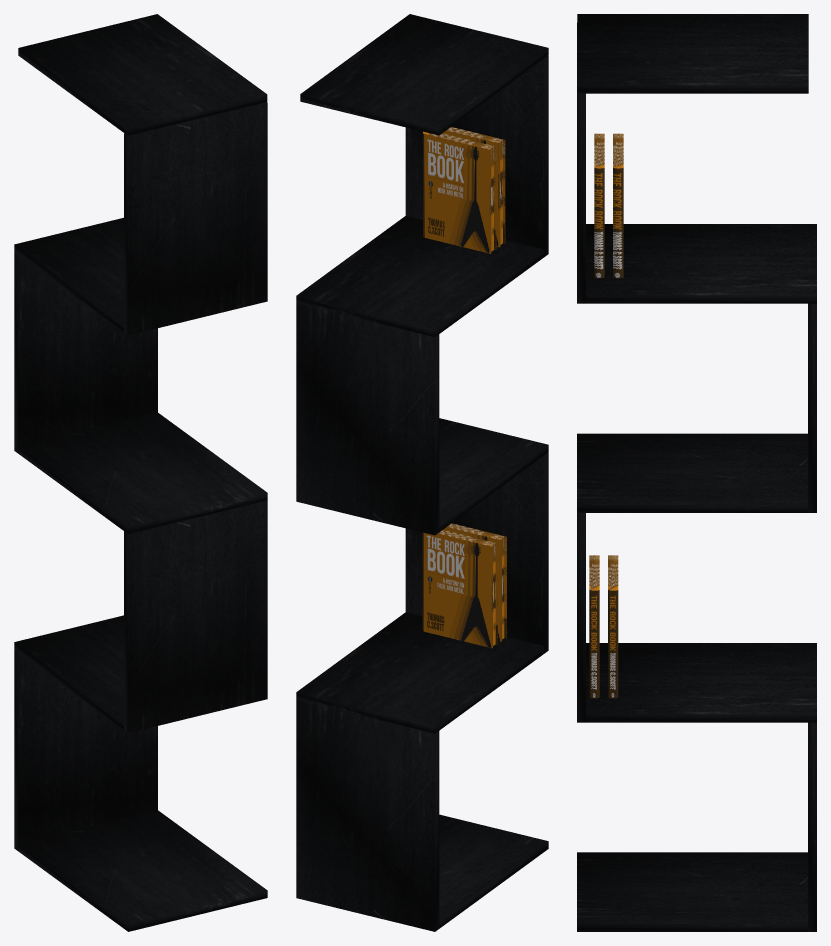
The model's file is estante.obj.
The picture shows the model from 3 angles, left to right: view 1: azimuth 30°, elevation 25°; view 2: azimuth 150°, elevation 25°; view 3: azimuth 270°, elevation 25°; orthographic projection. The views are drawn at different scales.
Visible parts, largest first — view 1: Cube.001, Cube.005, Cube.003, Cube.007, Cube.004, Cube.008, Cube.025_Cube.034, Cube.002, Cube.006; view 2: Cube.003, Cube.007, Cube.025_Cube.034, Cube.006, Cube.002, Cube.001, Cube.005, Cube.010, Cube.019_Cube.024, Cube.008, Cube.004, Cube.009_Cube.011 (+1 smaller); view 3: Cube.025_Cube.034, Cube.004, Cube.008, Cube.002, Cube.006, Cube.001, Cube.003, Cube.005, Cube.007, Cube.009_Cube.011, Cube.010, Cube.016_Cube.019 (+1 smaller).
Boxes of the visible parts, box(x1,y1,x2,y2) form: Cube.001: box(124, 102, 267, 335); Cube.005: box(124, 500, 267, 732); Cube.003: box(14, 252, 157, 453); Cube.007: box(14, 650, 157, 851); Cube.004: box(18, 412, 267, 534); Cube.008: box(18, 810, 267, 931); Cube.025_Cube.034: box(18, 14, 267, 135); Cube.002: box(14, 217, 123, 331); Cube.006: box(14, 615, 123, 729); Cube.003: box(296, 303, 439, 535); Cube.007: box(296, 700, 439, 931); Cube.025_Cube.034: box(300, 14, 548, 135); Cube.006: box(296, 612, 544, 733); Cube.002: box(296, 216, 544, 336); Cube.001: box(405, 56, 548, 256); Cube.005: box(405, 452, 548, 653); Cube.010: box(423, 131, 496, 253); Cube.019_Cube.024: box(422, 530, 497, 648); Cube.008: box(439, 814, 548, 928); Cube.004: box(439, 418, 548, 531); Cube.009_Cube.011: box(442, 127, 505, 247); Cube.025_Cube.034: box(577, 14, 808, 93); Cube.004: box(577, 433, 807, 512); Cube.008: box(577, 852, 807, 931); Cube.002: box(586, 224, 816, 303); Cube.006: box(586, 643, 816, 722); Cube.001: box(577, 23, 585, 303); Cube.003: box(808, 303, 816, 512); Cube.005: box(577, 513, 585, 722); Cube.007: box(808, 722, 816, 931); Cube.009_Cube.011: box(594, 133, 604, 278); Cube.010: box(613, 133, 623, 278); Cube.016_Cube.019: box(589, 555, 599, 698).
Size of the model in its own units: 0.4333 by 2.39 by 0.6138.
12 materials, 12 textured.
